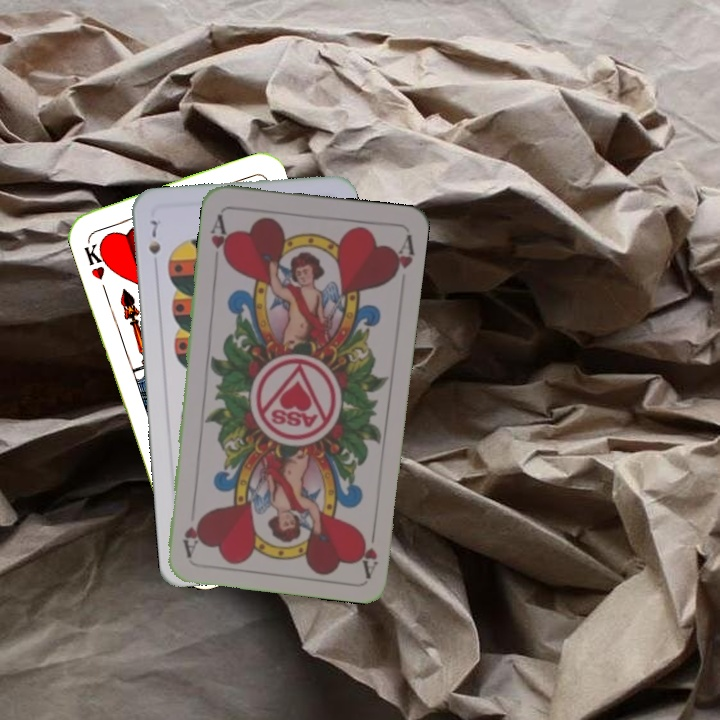HA: (354, 519, 381, 578), (206, 210, 232, 266)
HK: (80, 237, 113, 283)
S7: (144, 216, 164, 257)
